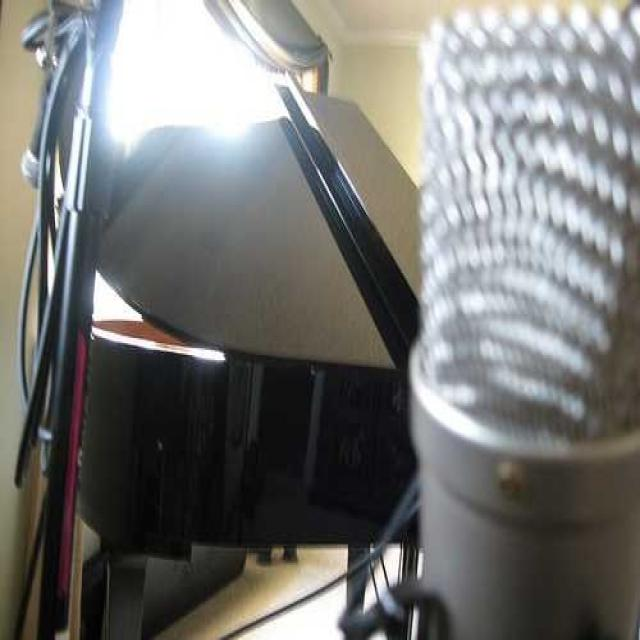microphone: (409, 8, 639, 638)
